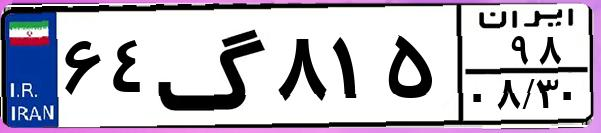0: (560, 70, 590, 125), (470, 70, 495, 125)
1: (330, 28, 385, 110)
3: (535, 70, 560, 125)
4: (110, 28, 156, 98)
5: (385, 28, 445, 110)
6: (57, 26, 110, 100)
8: (270, 28, 330, 110), (537, 27, 568, 80), (495, 70, 520, 125)
9: (508, 27, 537, 80)
گ: (156, 12, 270, 120)
